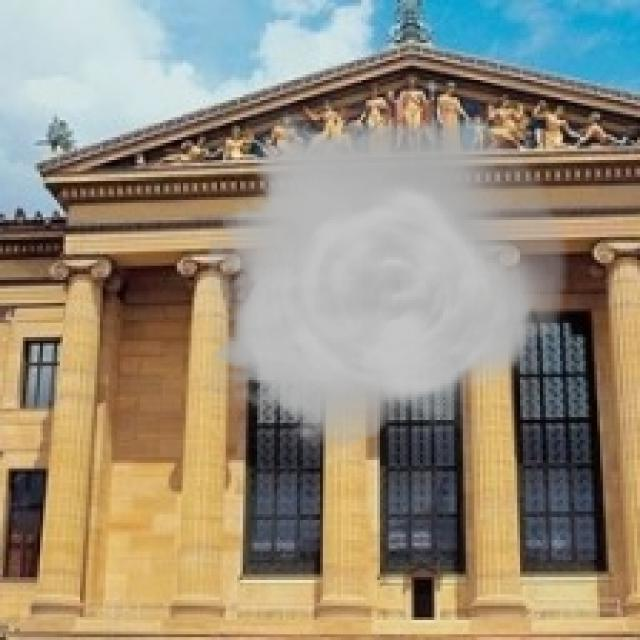Smoke: (208, 97, 568, 460)
